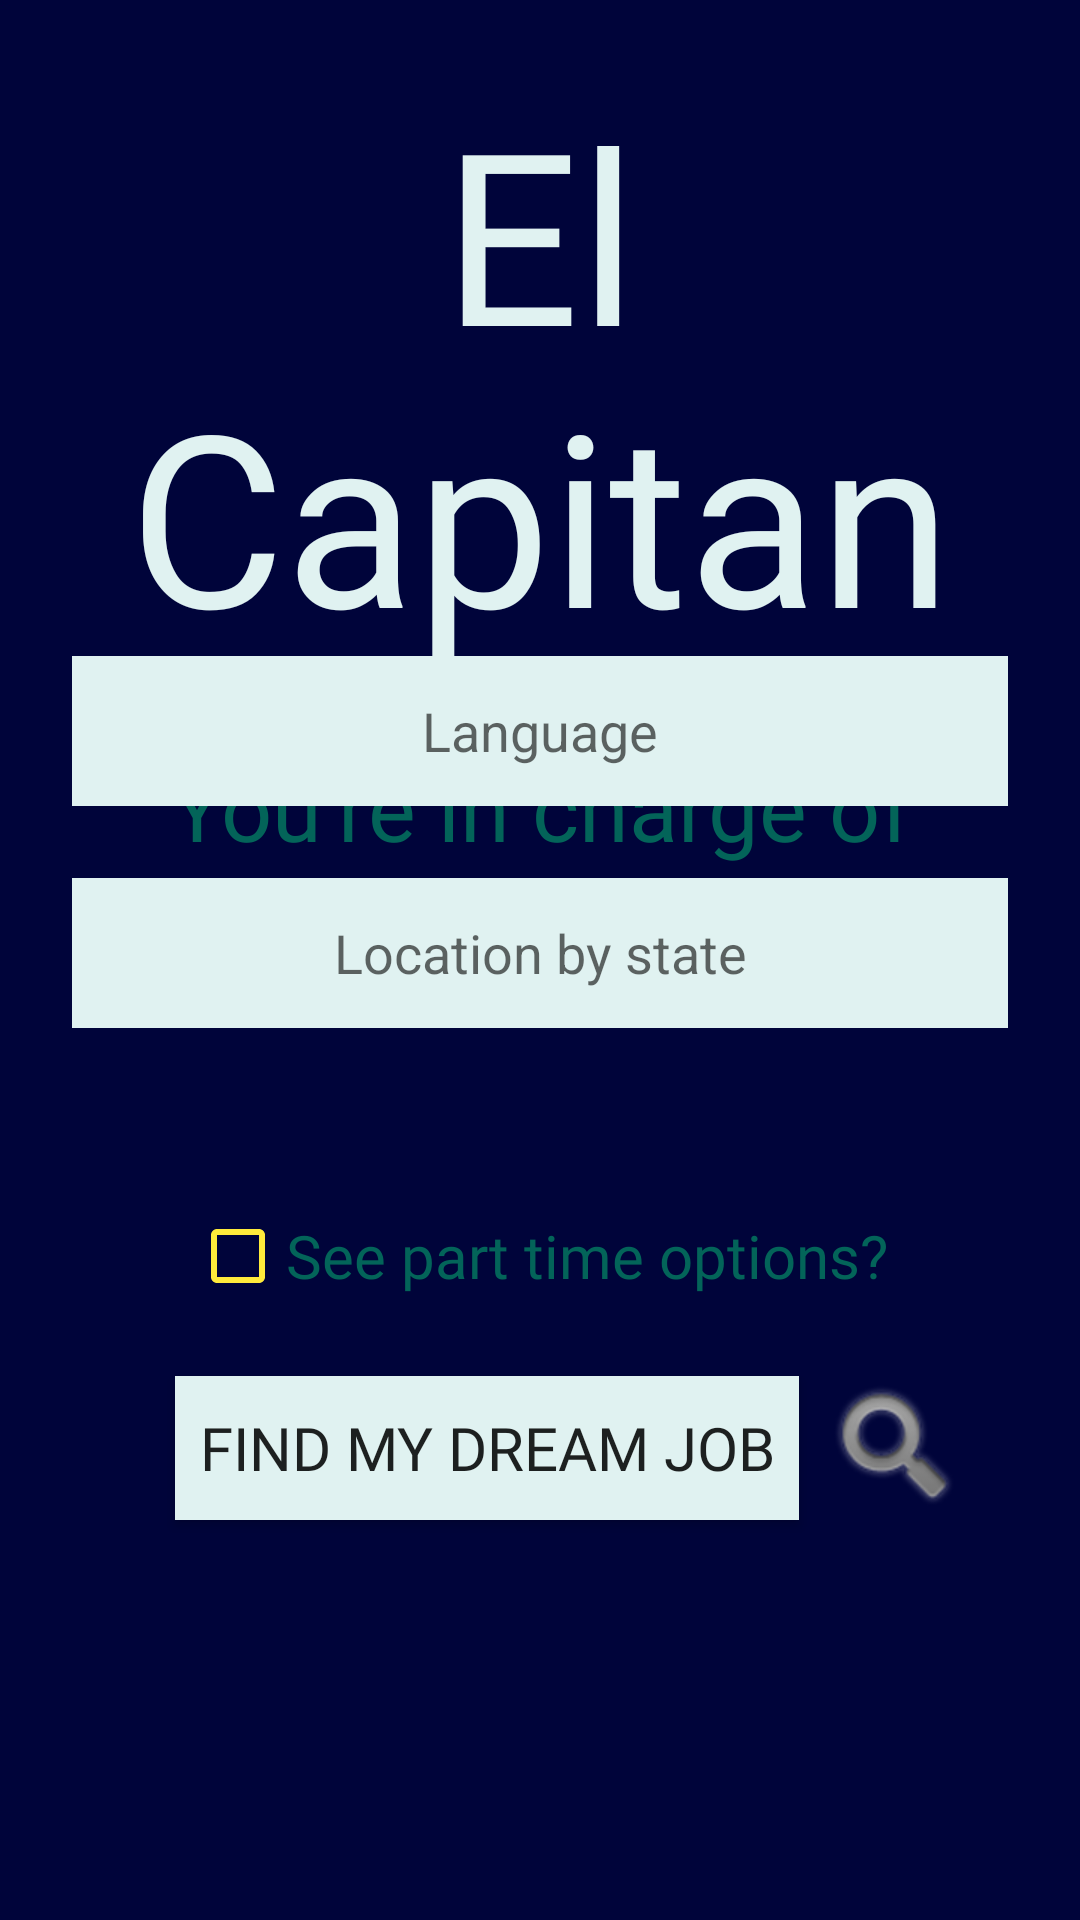

Locate icon controls on the screen. Image size 1080*1920, boxes as bbox=[x1, y1, x2, y2].
search category: bbox=[839, 1390, 949, 1500]
